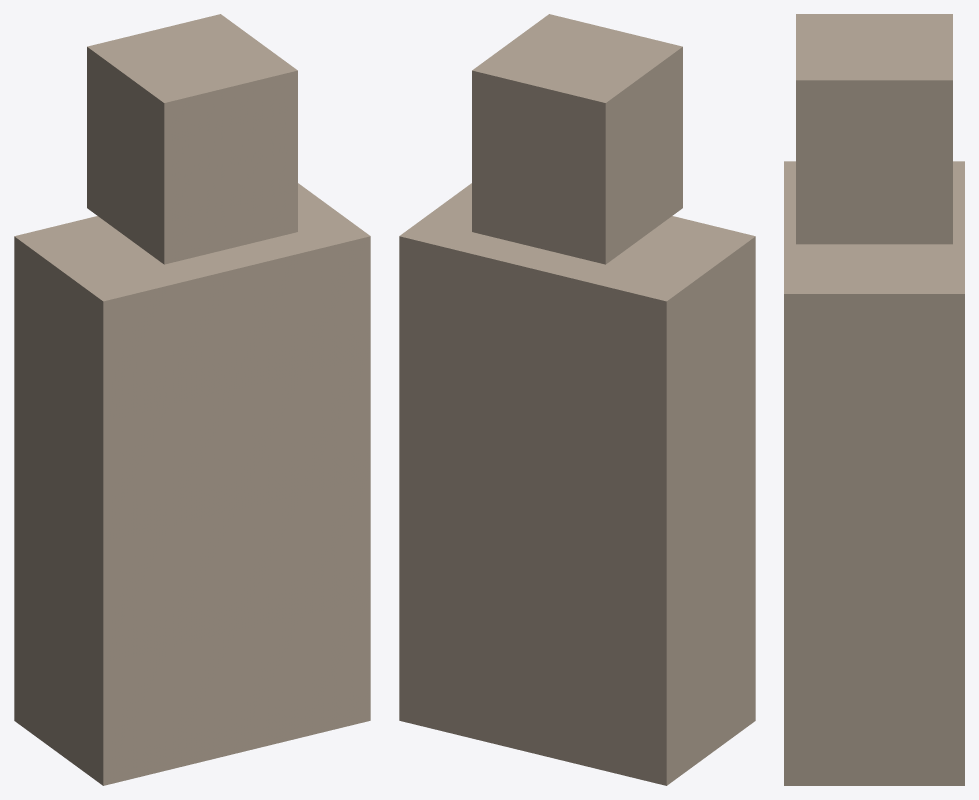
File: crowd_impostor_01.gltf
3 renders of one model, left to right at view 1: azimuth 30°, elevation 25°; view 2: azimuth 150°, elevation 25°; view 3: azimuth 270°, elevation 25°, orthographic.
Visible parts, largest first — view 1: Body_torso, Body_head; view 2: Body_torso, Body_head; view 3: Body_torso, Body_head.
Boxes of the visible parts, x1,y1,x2,y2 form: Body_torso: (14,183,370,785); Body_head: (87,14,297,264); Body_torso: (399,183,755,785); Body_head: (472,14,682,264); Body_torso: (784,161,964,785); Body_head: (796,14,952,244).
Bounding box in the file's own units: 0.52 × 1.23 × 0.3.
